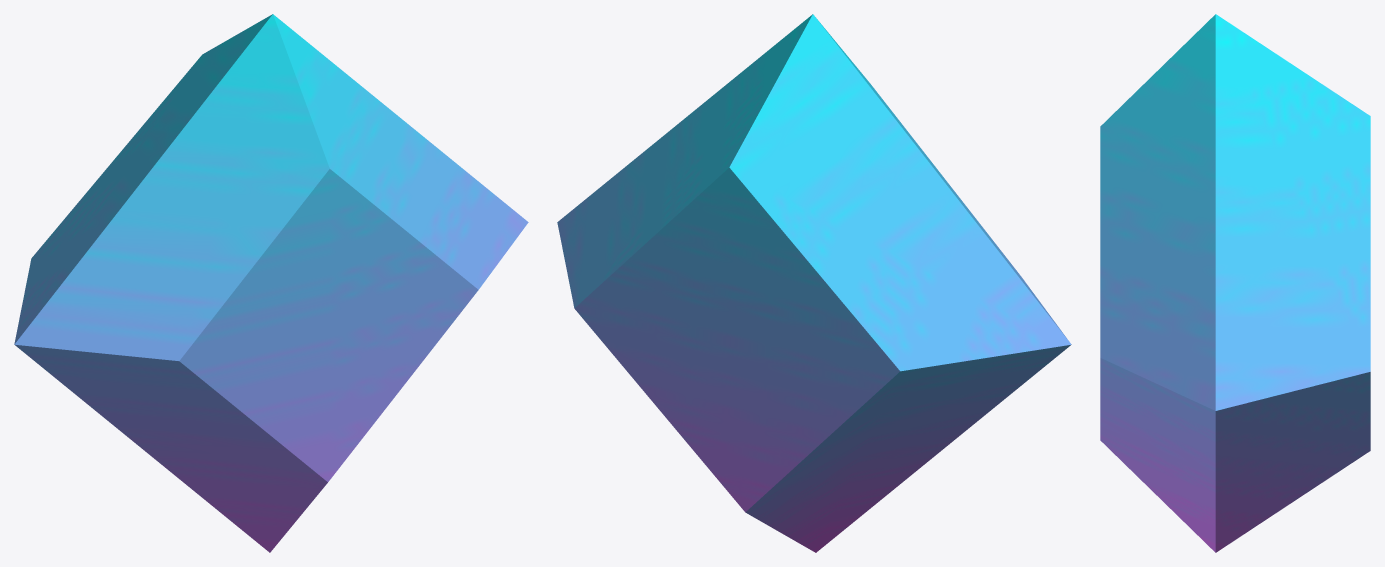
File: Gem_Small.gltf
3 views of the same model, side by side, from view 1: azimuth 30°, elevation 25°; view 2: azimuth 150°, elevation 25°; view 3: azimuth 270°, elevation 25° (orthographic).
Visible parts, largest first — view 1: Gem_Small; view 2: Gem_Small; view 3: Gem_Small.
Boxes of the visible parts, bbox=[...] form: Gem_Small: bbox=[14, 14, 528, 552]; Gem_Small: bbox=[557, 14, 1071, 552]; Gem_Small: bbox=[1100, 14, 1370, 552].
Bounding box in the file's own units: 0.3007 × 0.3007 × 0.1363.
Materials: 1 (1 with a texture image).
